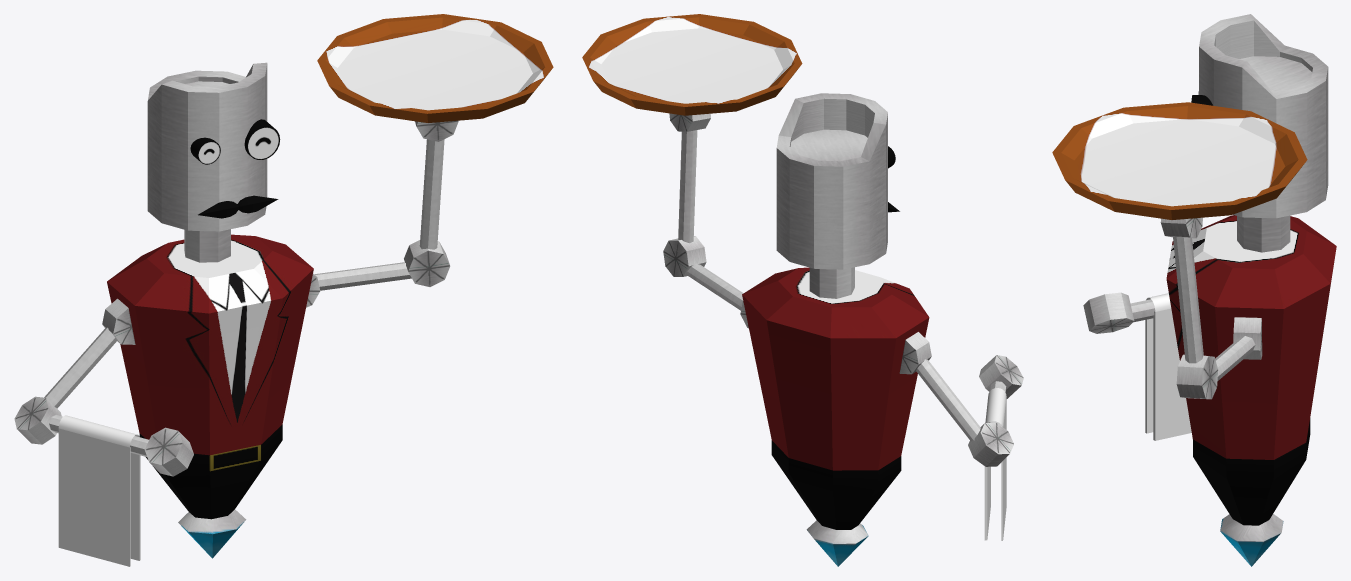
File: Waiter.fbx
3 views of the same model, side by side, from view 1: azimuth 30°, elevation 25°; view 2: azimuth 150°, elevation 25°; view 3: azimuth 270°, elevation 25° (orthographic). The views are drawn at different scales.
Visible parts, largest first — view 1: polySurface133; view 2: polySurface133; view 3: polySurface133.
Part boxes in pixels (box(x1,y1,x2,y2)): polySurface133: box(14, 14, 553, 566); polySurface133: box(582, 14, 1023, 566); polySurface133: box(1052, 14, 1336, 566).
Size of the model in its own units: 1.79 by 1.72 by 0.8445.
